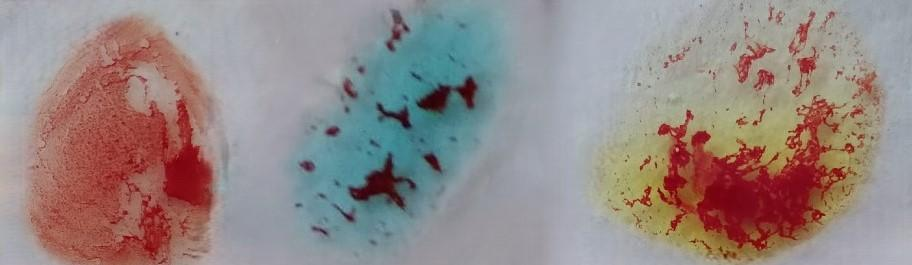A: (297, 4, 484, 252)
B: (621, 2, 879, 263)
D: (40, 23, 228, 265)
